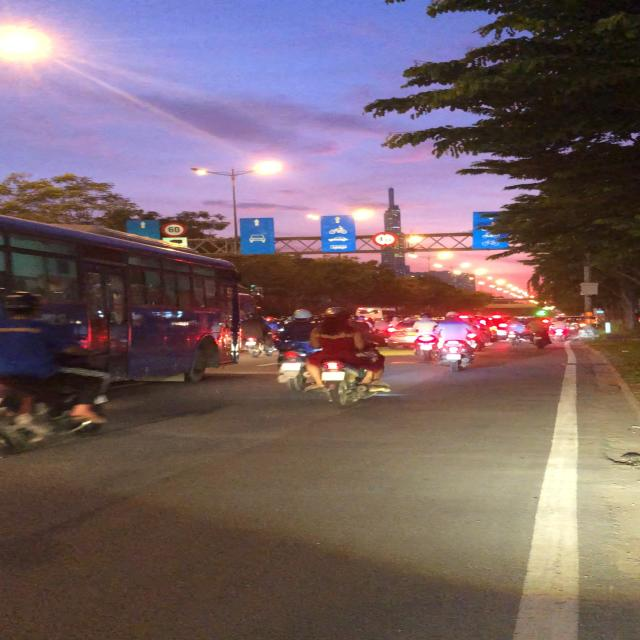Bien bao toc do toi da cho phep: (154, 218, 190, 238)
